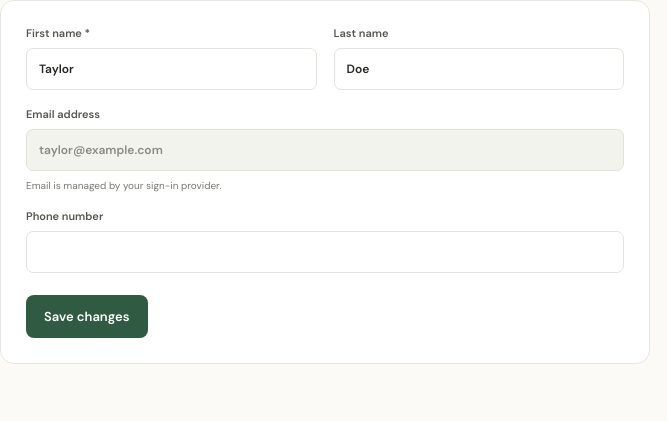
Test: ProfileForm › saves editable profile details and displays success
Replace the text in the field labelled "First name *" with "Taylor Ann": x=171, y=69 [26, 48, 316, 90]
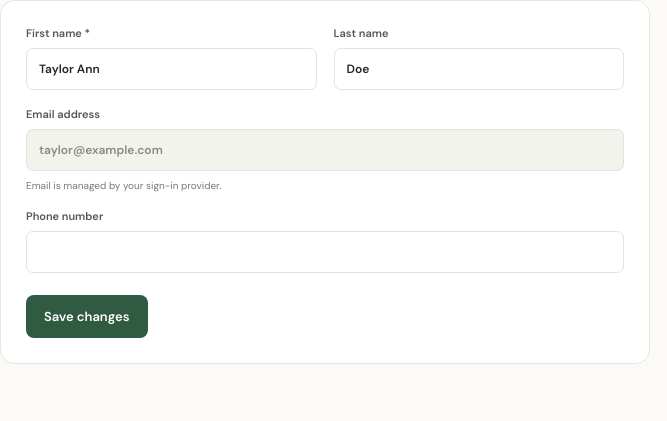
In the field labelled "Phone number": x=325, y=252 [26, 231, 624, 273], type "5551234567"
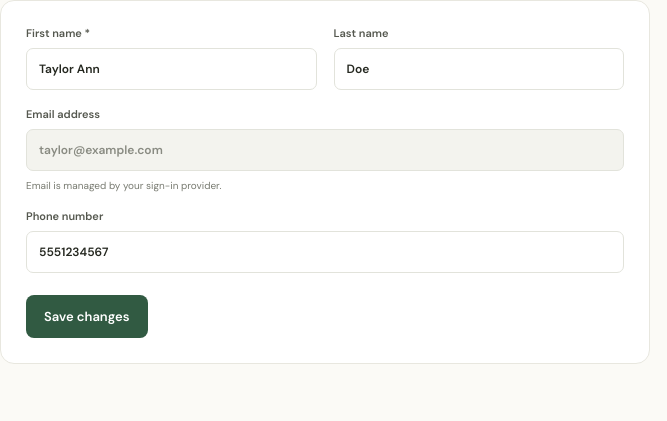
Click the button "Save changes": x=87, y=316 [26, 295, 148, 338]
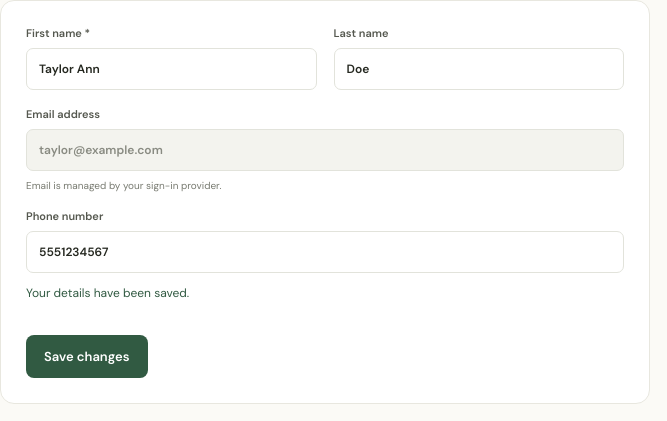
Expected: the text "Your details have been saved." is shown, [26, 285, 189, 301]
